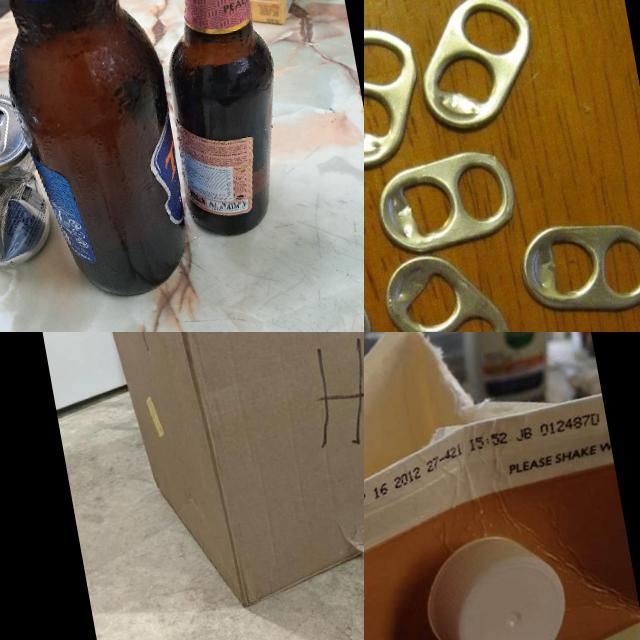aba de lata: (406, 0, 546, 138), (370, 142, 526, 260), (512, 208, 640, 324), (377, 242, 518, 332), (364, 18, 433, 176)
caixinha: (364, 332, 640, 640), (240, 0, 302, 31)
garrafa de vidro: (0, 0, 198, 310), (136, 0, 304, 244)
lata: (0, 83, 60, 275)
papelão: (76, 332, 364, 622)
